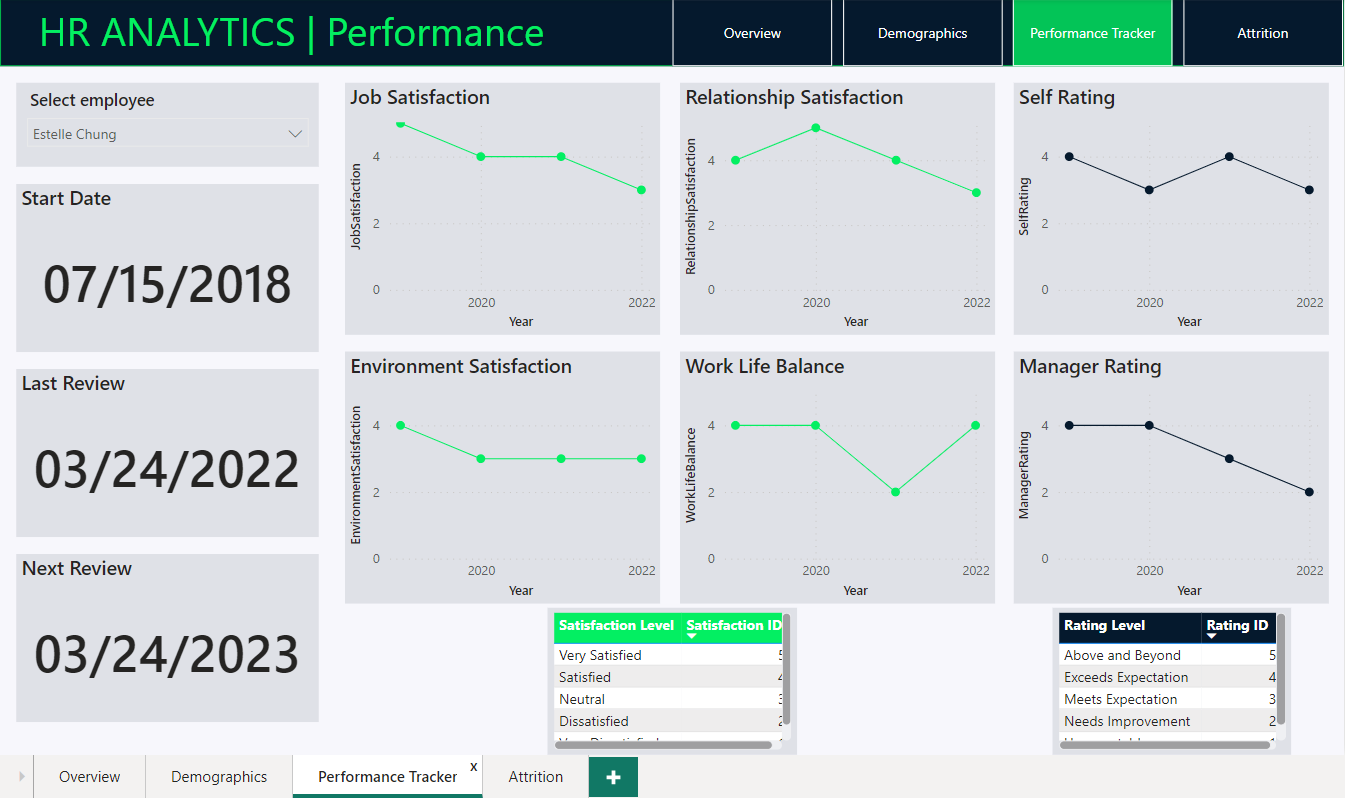

This screenshot's page, from the dashboard's own definition file:
{"tool":"powerbi","page":{"name":"Performance Tracker","canvas":[1280,720],"ordinal":2},"visuals":[{"type":"shape","box":[0,0,1280,64],"z":0},{"type":"textbox","box":[32,0,624,64],"z":1000},{"type":"pageNavigator","box":[640,0,640,64],"z":2000},{"type":"slicer","fields":{"Values":["DimEmployee.FullName"]},"box":[16,80,288,80],"z":3000},{"type":"card","title":"Start Date","fields":{"Values":["Min(DimEmployee.HireDate)"]},"box":[16,176,288,160],"z":4000},{"type":"card","title":"Last Review","fields":{"Values":["_Measures.LastReviewDate"]},"box":[16,352,288,160],"z":5000},{"type":"card","title":"Next Review","fields":{"Values":["_Measures.NextReviewDate"]},"box":[16,528,288,160],"z":6000},{"type":"lineChart","title":"Job Satisfaction","fields":{"Y":["_Measures.JobSatisfaction"],"Category":["DimDate.Year"]},"box":[328.3,79.8,300,240.3],"z":7000},{"type":"lineChart","title":"Relationship Satisfaction","fields":{"Y":["_Measures.RelationshipSatisfaction"],"Category":["DimDate.Year"]},"box":[646.9,79.8,300,240.3],"z":8000},{"type":"lineChart","title":"Self Rating","fields":{"Y":["_Measures.SelfRating"],"Category":["DimDate.Year"]},"box":[965.5,79.8,299.7,240.3],"z":9000},{"type":"lineChart","title":"Work Life Balance","fields":{"Y":["_Measures.WorkLifeBalance"],"Category":["DimDate.Year"]},"box":[647.4,335.5,299.7,240.3],"z":10000},{"type":"lineChart","title":"Manager Rating","fields":{"Y":["_Measures.ManagerRating"],"Category":["DimDate.Year"]},"box":[965.5,335.5,299.7,240.3],"z":11000},{"type":"lineChart","title":"Environment Satisfaction","fields":{"Y":["_Measures.EnvironmentSatisfaction"],"Category":["DimDate.Year"]},"box":[328.3,335.5,300,240.3],"z":12000},{"type":"tableEx","fields":{"Values":["DimRatingLevel.RatingLevel","DimRatingLevel.RatingID"]},"box":[1002.3,579.9,227,140.1],"z":13000},{"type":"tableEx","fields":{"Values":["DimSatisfiedLevel.SatisfactionLevel","DimSatisfiedLevel.SatisfactionID"]},"box":[521.6,579.9,237.3,140.1],"z":14000}]}

Visuals, with their boxes on the page's 1280x720 design canvas (x1, y1, x2, y2). These are canvas units, not pixel positions in the 1345x798 screenshot, which may show the page scaled, cropped or inside an application window:
shape: (0,0,1280,64)
textbox: (32,0,656,64)
pageNavigator: (640,0,1280,64)
slicer - DimEmployee.FullName: (16,80,304,160)
"Start Date" card: (16,176,304,336)
"Last Review" card: (16,352,304,512)
"Next Review" card: (16,528,304,688)
"Job Satisfaction" lineChart: (328,80,628,320)
"Relationship Satisfaction" lineChart: (647,80,947,320)
"Self Rating" lineChart: (966,80,1265,320)
"Work Life Balance" lineChart: (647,336,947,576)
"Manager Rating" lineChart: (966,336,1265,576)
"Environment Satisfaction" lineChart: (328,336,628,576)
tableEx - DimRatingLevel.RatingLevel x DimRatingLevel.RatingID: (1002,580,1229,720)
tableEx - DimSatisfiedLevel.SatisfactionLevel x DimSatisfiedLevel.SatisfactionID: (522,580,759,720)
